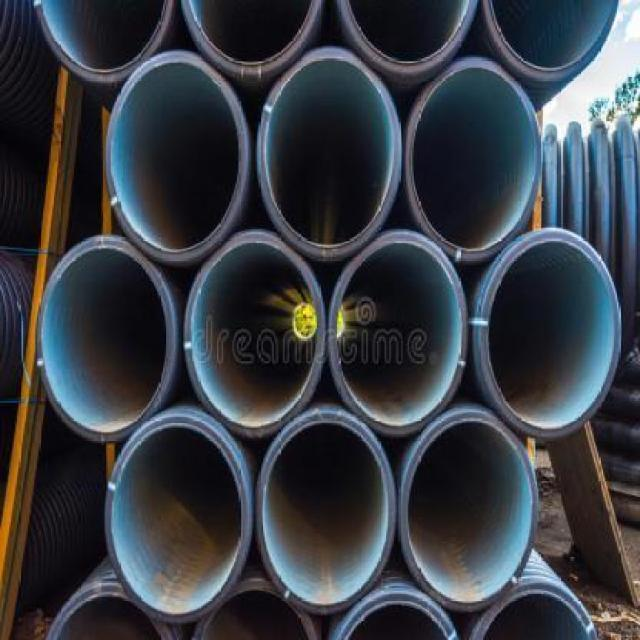pipe: (256, 49, 401, 260), (105, 51, 250, 262), (104, 416, 249, 622), (35, 236, 178, 441), (185, 232, 327, 438), (488, 238, 616, 431), (261, 418, 389, 609), (335, 240, 463, 429), (409, 65, 537, 253), (405, 418, 533, 604), (35, 0, 174, 83), (180, 0, 320, 77), (338, 0, 478, 72), (489, 0, 613, 72), (469, 581, 596, 640), (194, 580, 316, 640), (46, 586, 180, 640), (333, 592, 459, 640)
